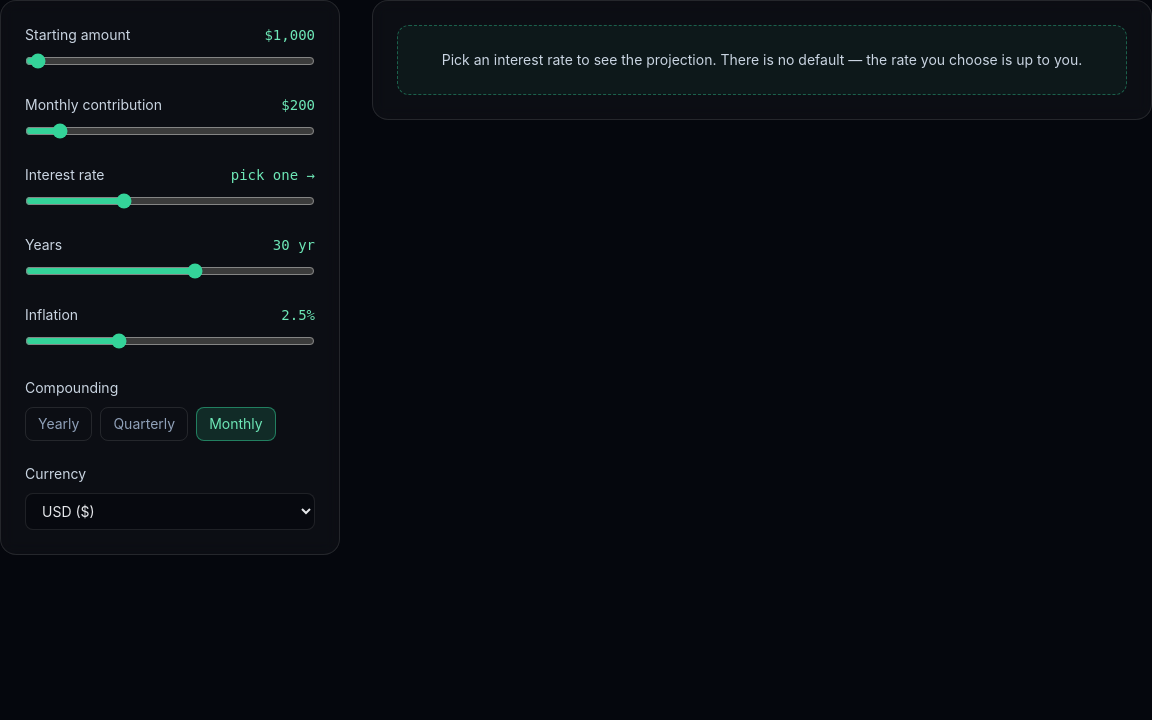
Scenario: CompoundInterestLab — locale currency › formats monetary values with the chosen currency
Select "EUR (€)" in the dropdown labelled "Currency". click: (170, 512)
box: [25,493,315,530]
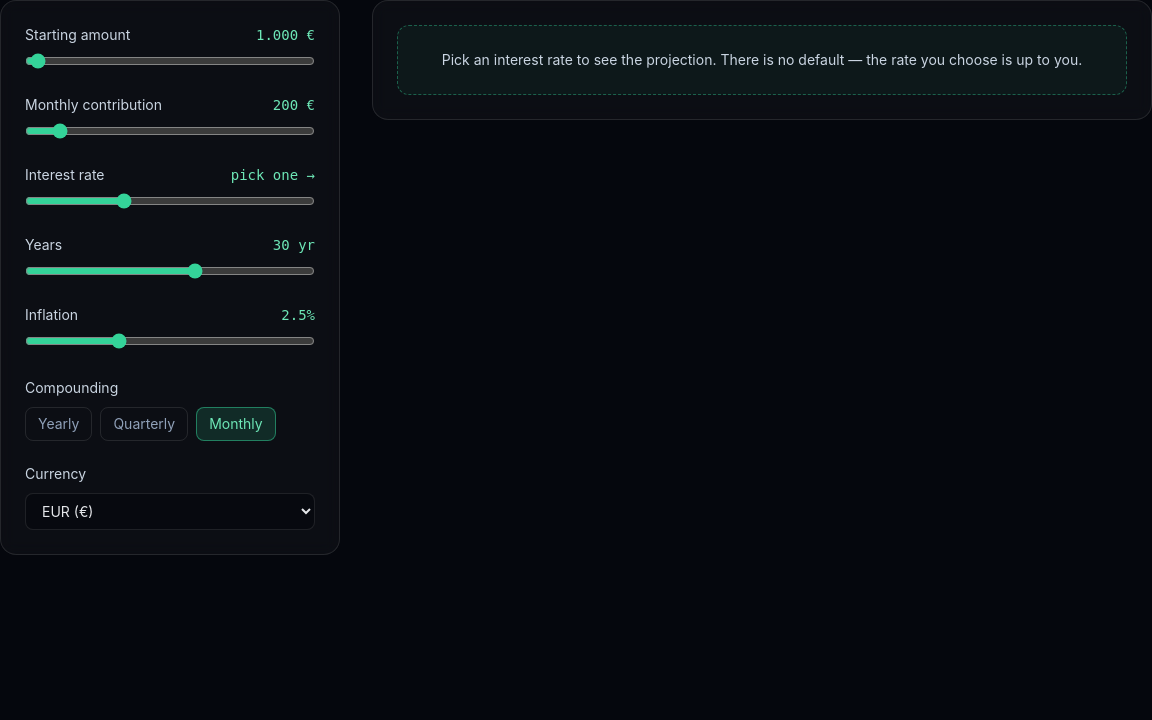
Set the slider labelled "Interest rate" to "7". click: (161, 201)
box: [25,193,315,209]
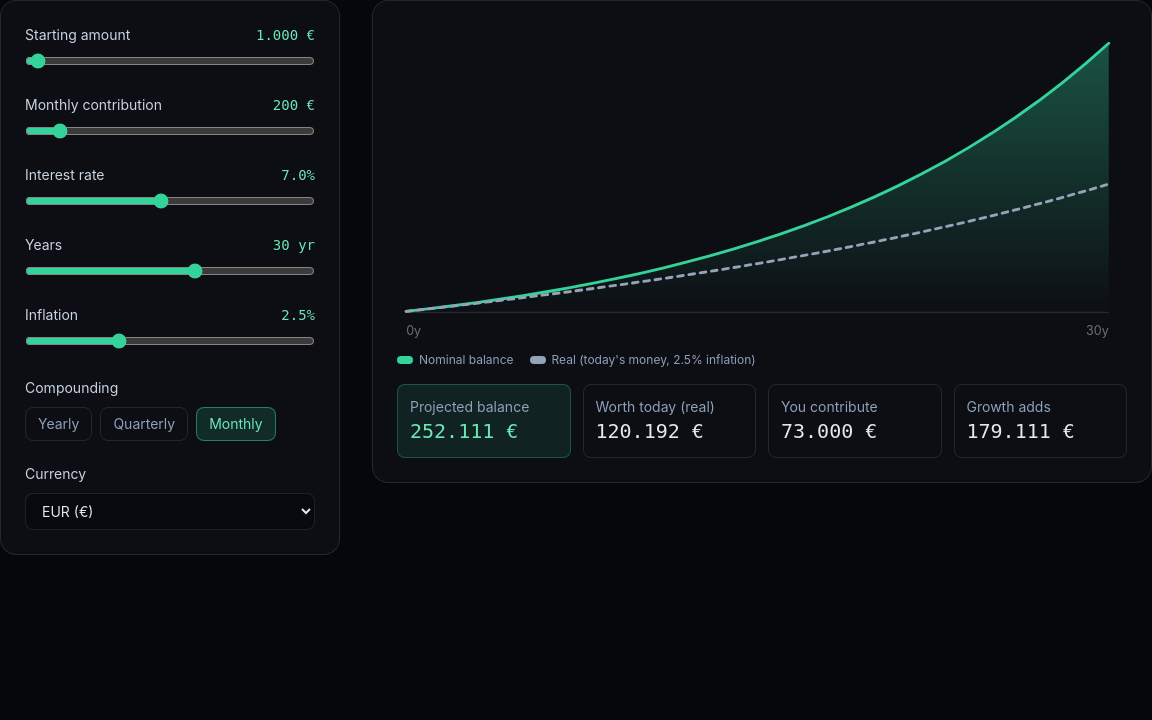
Check: the text "252.111 €" is shown, box [410,419,518,443]
